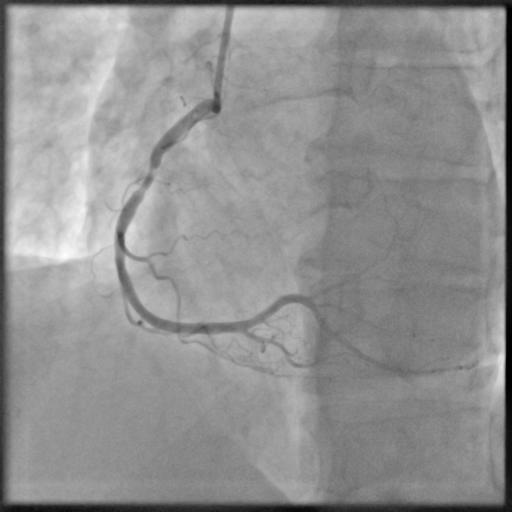Stenosis: (141, 160, 162, 182)
